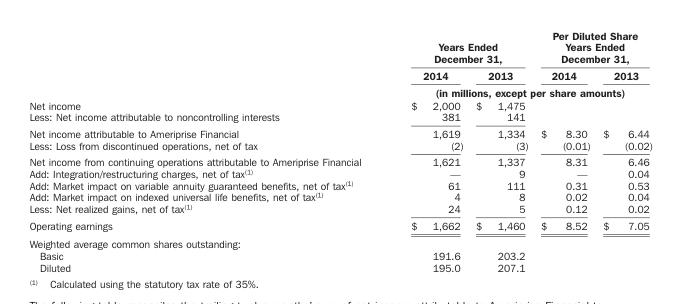table: (28, 28, 652, 273)
table column: (28, 28, 385, 273), (385, 28, 468, 273), (468, 28, 533, 273), (533, 28, 596, 273), (596, 28, 652, 273)
table column header: (28, 28, 652, 98)
table projected row header: (28, 234, 652, 249)
table row: (28, 28, 652, 66), (28, 216, 652, 234), (28, 66, 652, 83), (28, 83, 652, 98), (28, 124, 652, 139), (28, 234, 652, 249), (28, 110, 652, 124), (28, 139, 652, 153), (28, 153, 652, 167), (28, 202, 652, 216), (28, 98, 652, 110), (28, 178, 652, 190), (28, 190, 652, 202), (28, 249, 652, 261), (28, 261, 652, 273), (28, 167, 652, 178)
table spanning cell: (385, 28, 533, 66), (533, 28, 652, 66), (385, 83, 652, 98)
